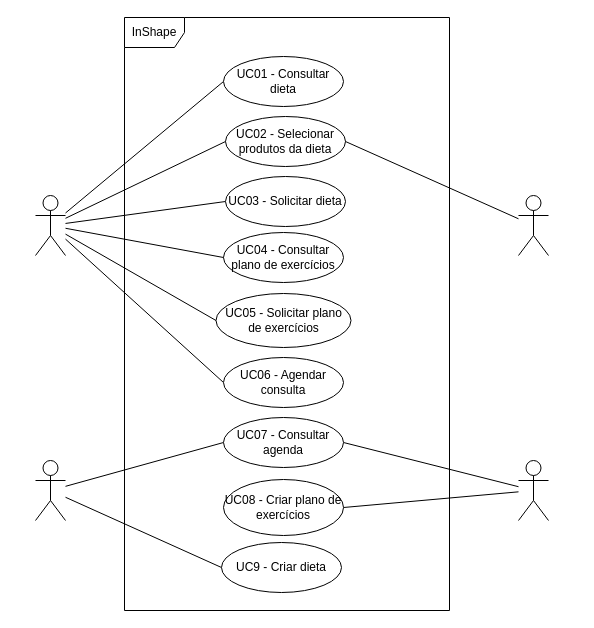
This 594x628 diagram has some shape labels left out. The centre of each missing label's shape, as x and y in pixels:
Aluno: point 50,225
Nutricionista: point 50,490
Personal Trainer: point 533,490
Supermercado: point 533,225
